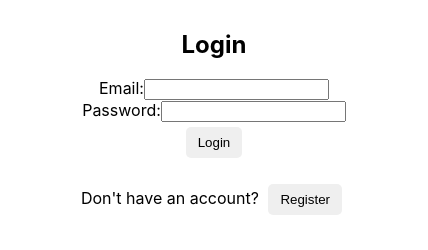
it: AuthPage › handles failed registration
Click the button "Register". click: (305, 200)
box: [268,184,342,215]
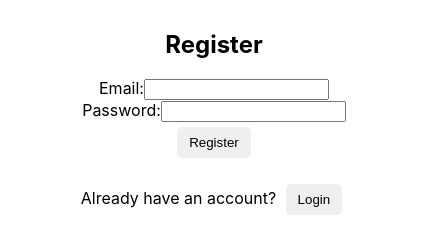
Type "fail@example.com" into the field labelled "Email:". click: (236, 90)
box: [144,79,329,100]
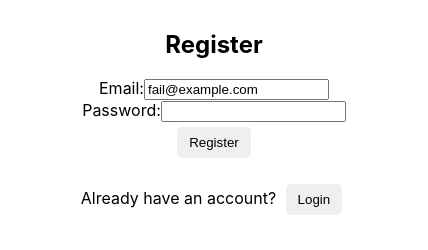
Type "failpass" into the password field labelled "Password:". click: (253, 112)
box: [161,101,346,122]
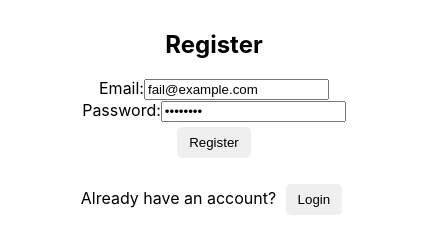
Click the button "Register". click: (214, 143)
box: [177,127,251,158]
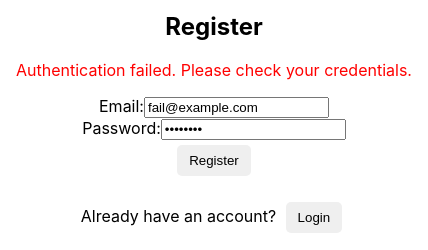
Expected: the text "Authentication failed. Please check your credentials." is shown, [16,60,412,80]
